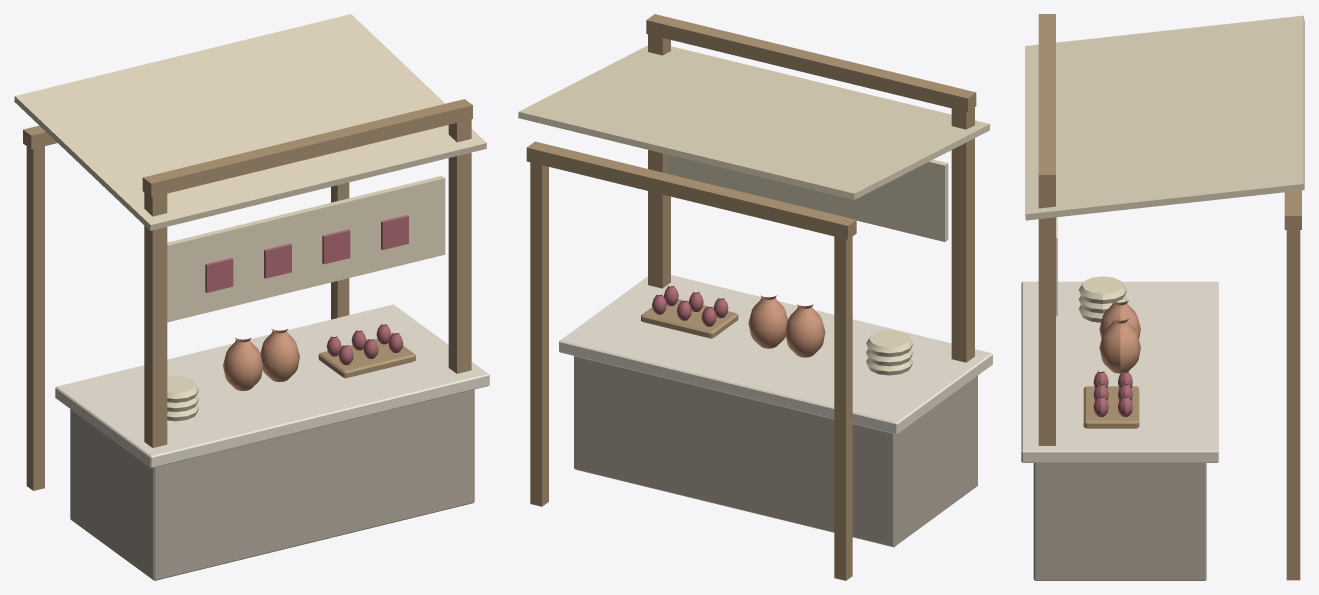
Rendered from roman-bathhouse-and-palaestra-vendor-stall-42493924.glb.
3 renders of one model, left to right at view 1: azimuth 30°, elevation 25°; view 2: azimuth 150°, elevation 25°; view 3: azimuth 270°, elevation 25°, orthographic. The views are drawn at different scales.
Visible parts, largest first — view 1: vendor-stall; view 2: vendor-stall; view 3: vendor-stall.
Boxes of the visible parts, bbox=[...] form: vendor-stall: bbox=[14, 14, 489, 580]; vendor-stall: bbox=[518, 14, 992, 580]; vendor-stall: bbox=[1021, 14, 1304, 580].
Size of the model in its own units: 2.32 by 2.59 by 1.63.
